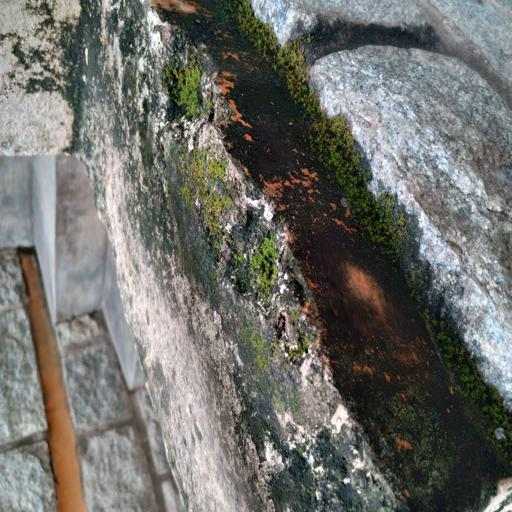algae: (14, 6, 509, 491)
